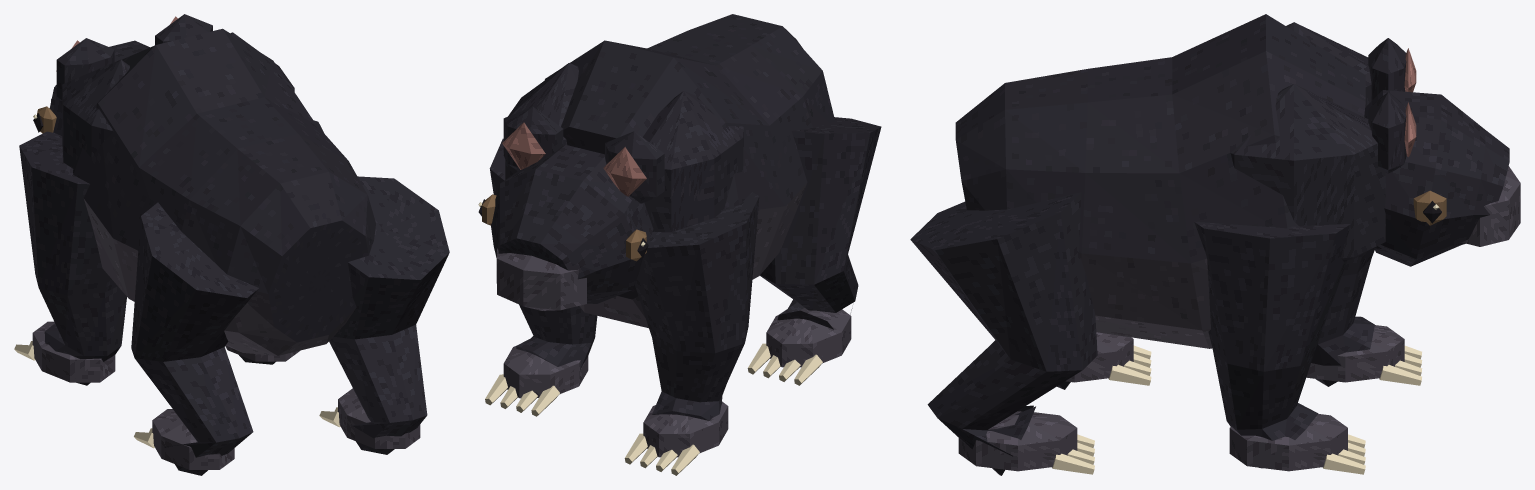
Rendered from mon_bear.glb.
The picture shows the model from 3 angles, left to right: view 1: azimuth 30°, elevation 25°; view 2: azimuth 150°, elevation 25°; view 3: azimuth 270°, elevation 25°; orthographic projection. The views are drawn at different scales.
Visible parts, largest first — view 1: closed_body; view 2: closed_body; view 3: closed_body.
Boxes of the visible parts, left/top/right/bottom form: closed_body: left=14, top=14, right=449, bottom=475; closed_body: left=478, top=14, right=881, bottom=475; closed_body: left=910, top=14, right=1520, bottom=475.
Size of the model in its own units: 0.7414 by 0.9522 by 1.32.
1 material, 1 textured.
